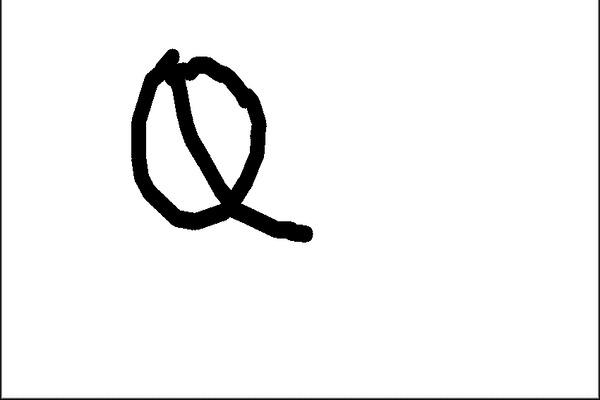Q: (124, 36, 326, 254)
